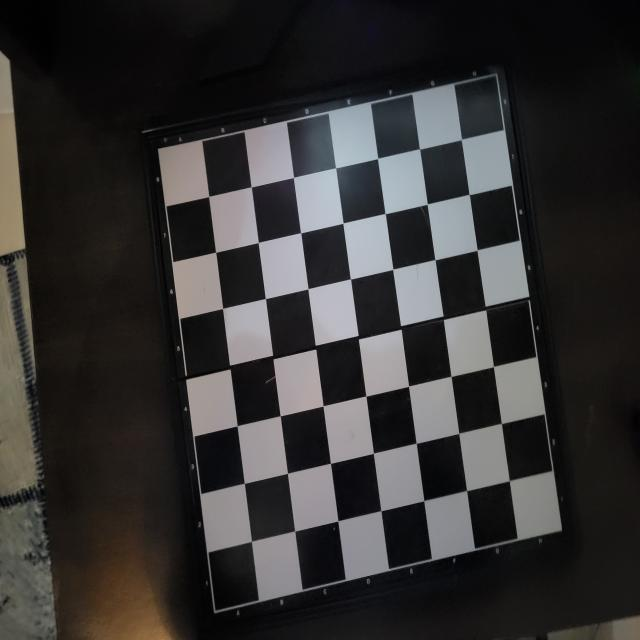chess-board: (154, 69, 566, 619)
